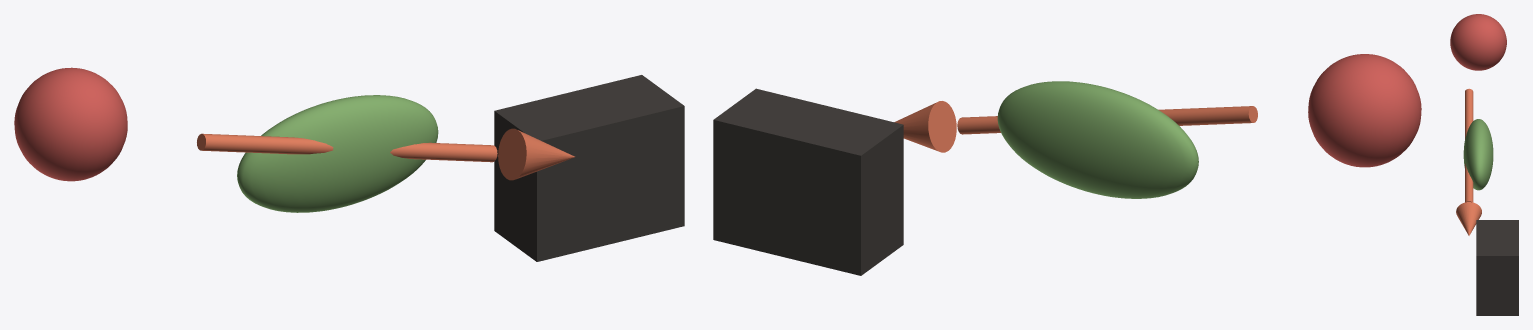
File: biology-animals-behavior.glb
3 renders of one model, left to right at view 1: azimuth 30°, elevation 25°; view 2: azimuth 150°, elevation 25°; view 3: azimuth 270°, elevation 25°, orthographic. The views are drawn at different scales.
Parts seen in each view (by area): view 1: shelter-outcome, animal-response-body, cue-signal, behavior-response-arrow-shaft, behavior-response-arrow-head; view 2: shelter-outcome, animal-response-body, cue-signal, behavior-response-arrow-shaft, behavior-response-arrow-head; view 3: shelter-outcome, cue-signal, animal-response-body, behavior-response-arrow-shaft, behavior-response-arrow-head.
Boxes of the visible parts, <box> form: shelter-outcome: <box>494,75,684,261</box>; animal-response-body: <box>237,95,438,212</box>; cue-signal: <box>14,67,127,181</box>; behavior-response-arrow-shaft: <box>197,133,497,162</box>; behavior-response-arrow-head: <box>498,128,574,180</box>; shelter-outcome: <box>713,88,903,275</box>; animal-response-body: <box>997,81,1198,198</box>; cue-signal: <box>1308,54,1421,167</box>; behavior-response-arrow-shaft: <box>957,106,1257,134</box>; behavior-response-arrow-head: <box>894,101,956,152</box>; shelter-outcome: <box>1476,220,1518,315</box>; cue-signal: <box>1450,14,1506,70</box>; animal-response-body: <box>1463,119,1493,190</box>; behavior-response-arrow-shaft: <box>1465,88,1473,202</box>; behavior-response-arrow-head: <box>1456,202,1481,235</box>.
Size of what is drawn, in the model's own units: 1.61 by 0.7 by 0.29.
